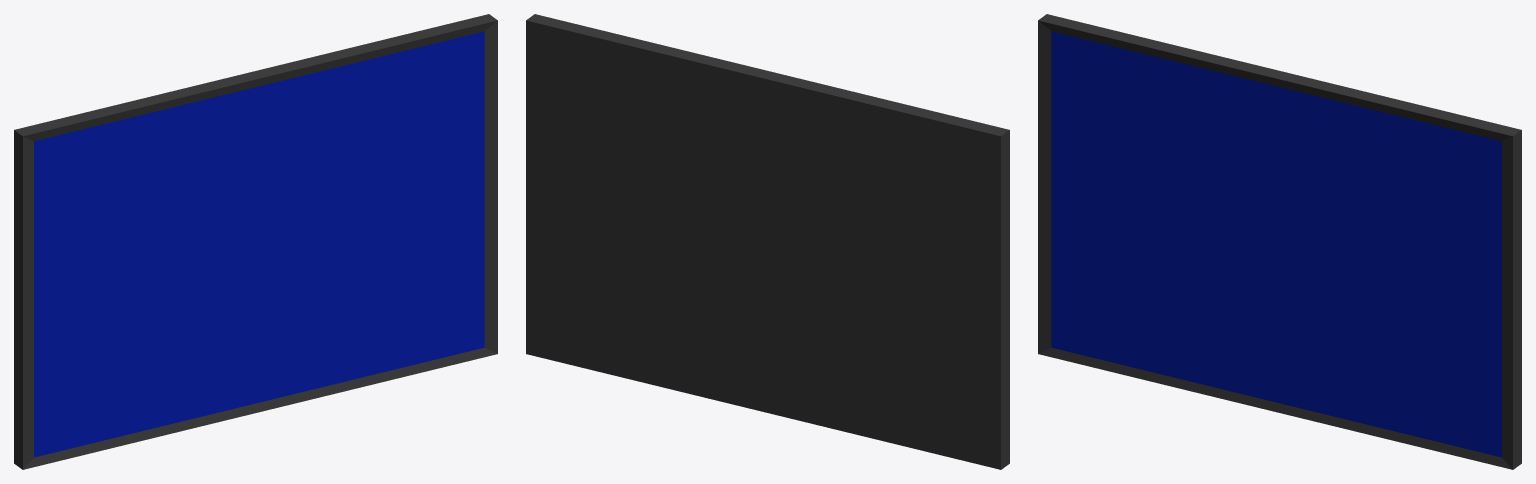
3 renders of one model, left to right at view 1: azimuth 30°, elevation 25°; view 2: azimuth 150°, elevation 25°; view 3: azimuth 330°, elevation 25°, orthographic.
Parts seen in each view (by area): view 1: Tv_Low; view 2: Tv_Low; view 3: Tv_Low.
Boxes of the visible parts, box(x1,y1,x2,y2) form: Tv_Low: box(14, 14, 497, 469); Tv_Low: box(526, 14, 1009, 469); Tv_Low: box(1038, 14, 1521, 469).
Bounding box in the file's own units: 212 × 142 × 6.83.
